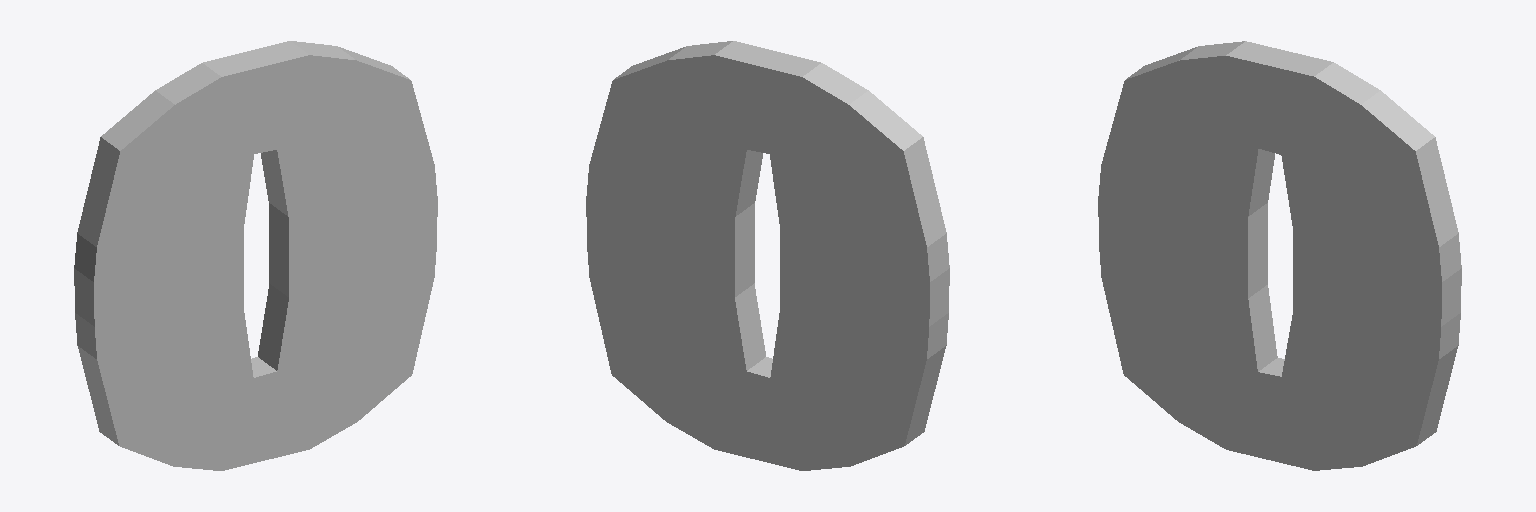
Rendered from number0.obj.
3 renders of one model, left to right at view 1: azimuth 30°, elevation 25°; view 2: azimuth 150°, elevation 25°; view 3: azimuth 330°, elevation 25°, orthographic.
Visible parts, largest first — view 1: 0; view 2: 0; view 3: 0.
Part boxes in pixels (left/top/right/bottom): 0: left=74, top=41, right=437, bottom=470; 0: left=586, top=41, right=949, bottom=470; 0: left=1098, top=41, right=1461, bottom=470.
Bounding box in the file's own units: 2.01 × 2.21 × 0.2.